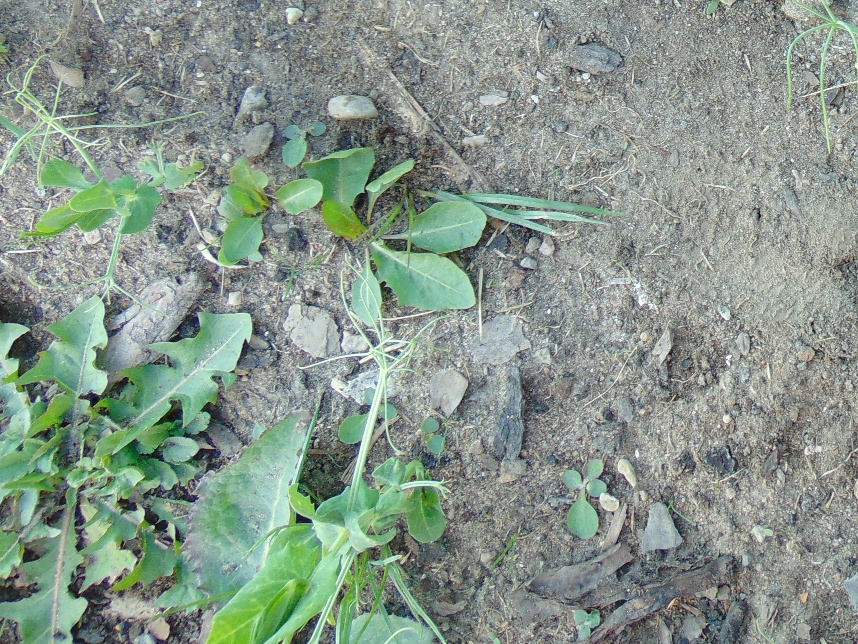crop: (263, 295, 432, 644), (208, 462, 457, 644), (1, 64, 187, 292), (809, 1, 858, 70)
weed: (1, 304, 236, 644), (304, 144, 487, 343), (221, 160, 324, 264), (560, 458, 611, 537), (282, 120, 326, 167), (423, 413, 446, 452)
